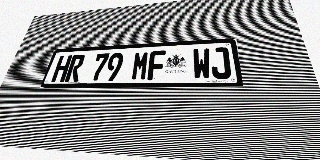7: (89, 53, 110, 81)
9: (104, 52, 124, 81)
F: (147, 50, 166, 80)
H: (51, 55, 72, 82)
J: (210, 47, 232, 79)
M: (130, 51, 150, 81)
R: (64, 54, 86, 82)
W: (192, 48, 211, 79)
